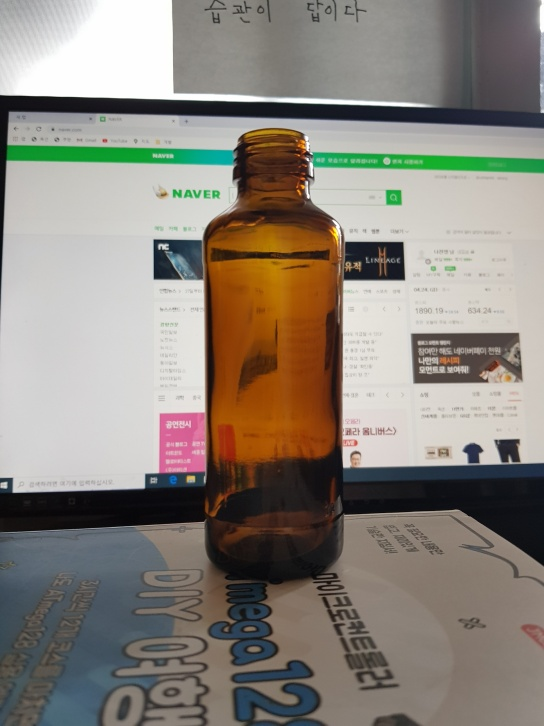Glass: (205, 128, 345, 580)
